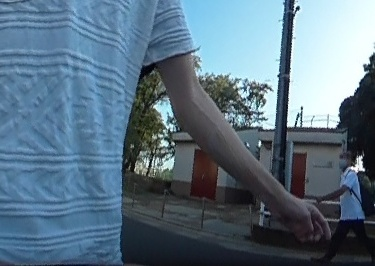person: (329, 149, 374, 264)
